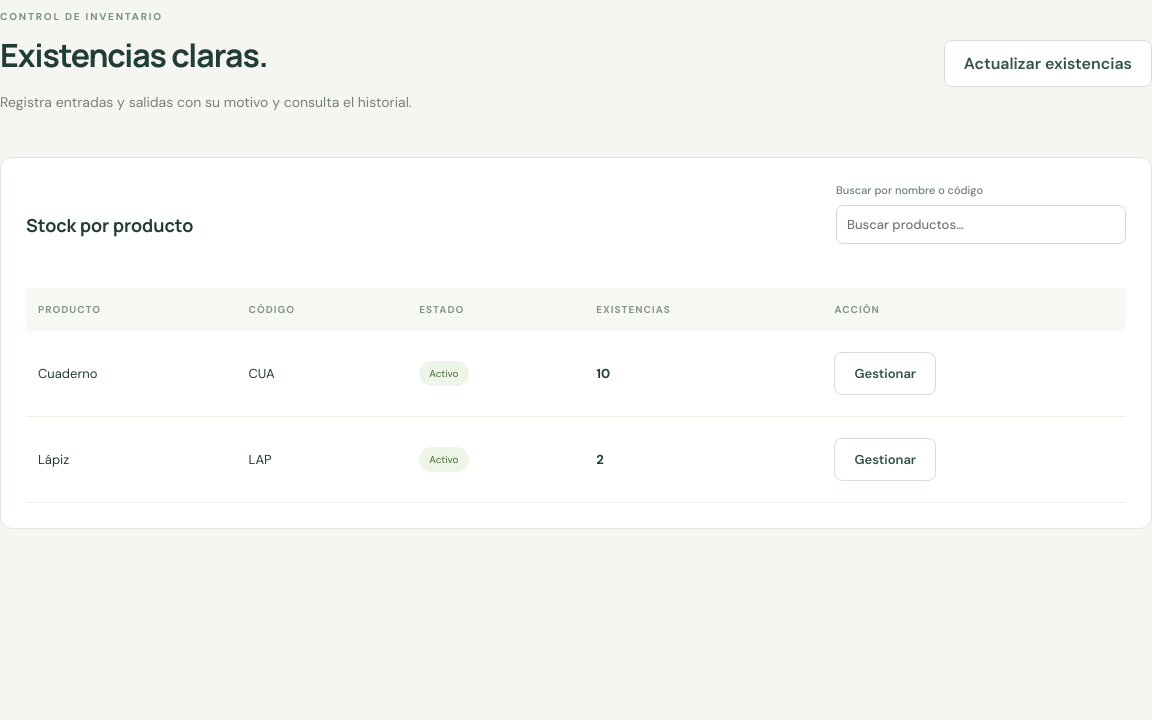
Scenario: Inventario › guarda una entrada con motivo y vuelve a consultar stock e historial
The image size is (1152, 720).
Click the button "Gestionar" in the row of "Cuaderno" at (885, 374), box [834,352,936,395]
(page scrolled)
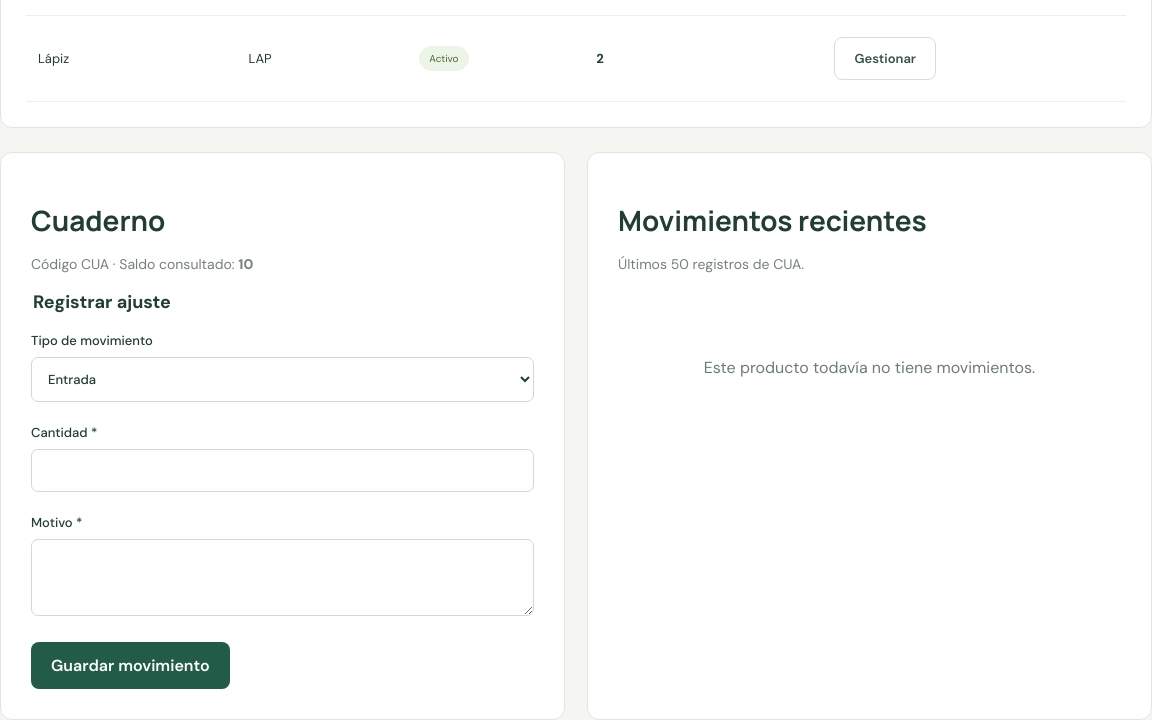
Type "5" into the number field labelled "Cantidad *" at (282, 470), box [31,449,534,492]
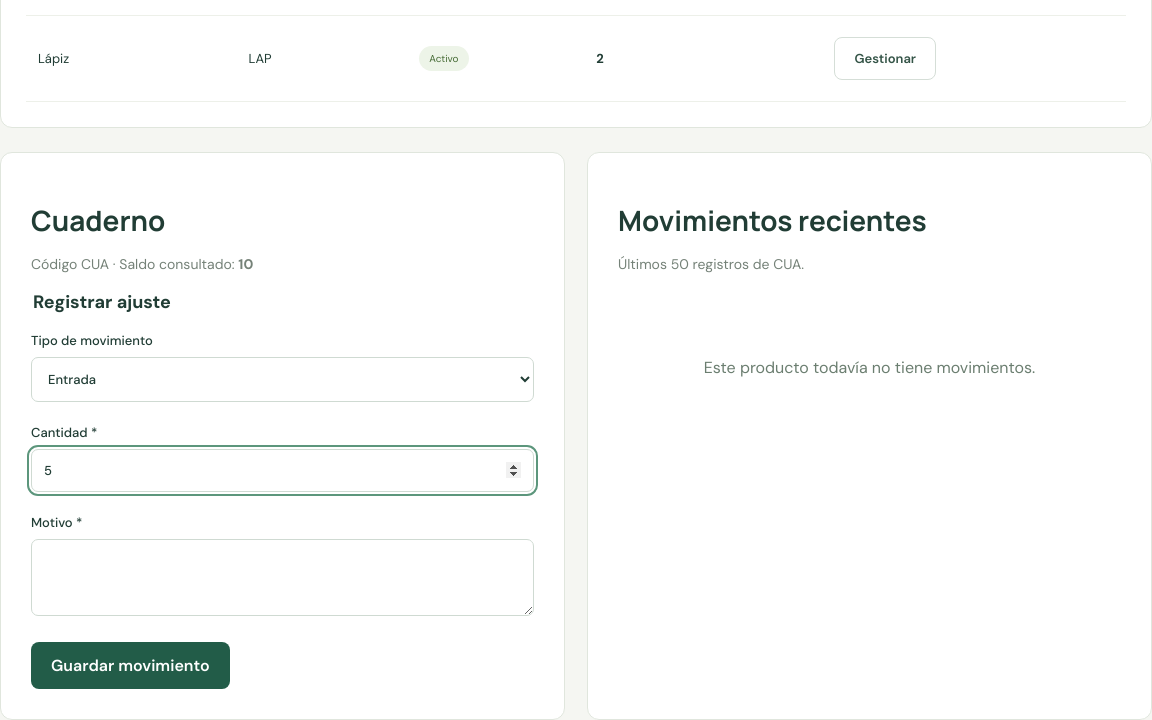
Type "Compra" into the text box labelled "Motivo *" at (282, 577), box [31,539,534,616]
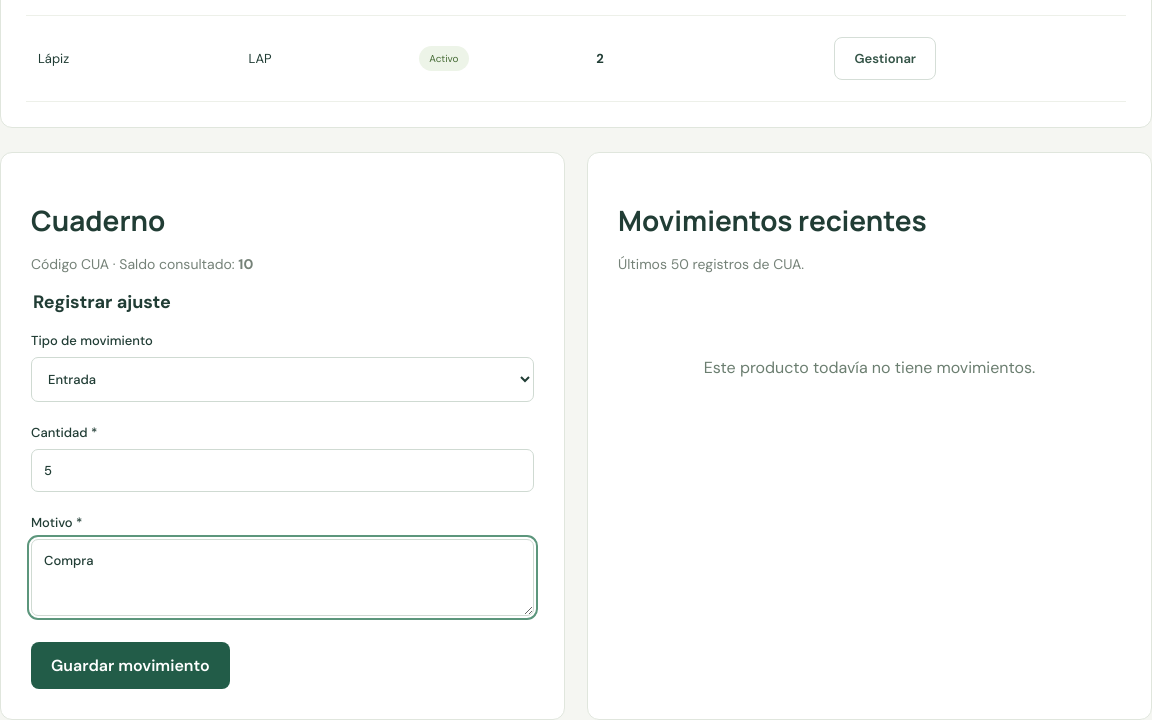
Click the button "Guardar movimiento" at (130, 665), box [31,642,230,689]
(page scrolled)
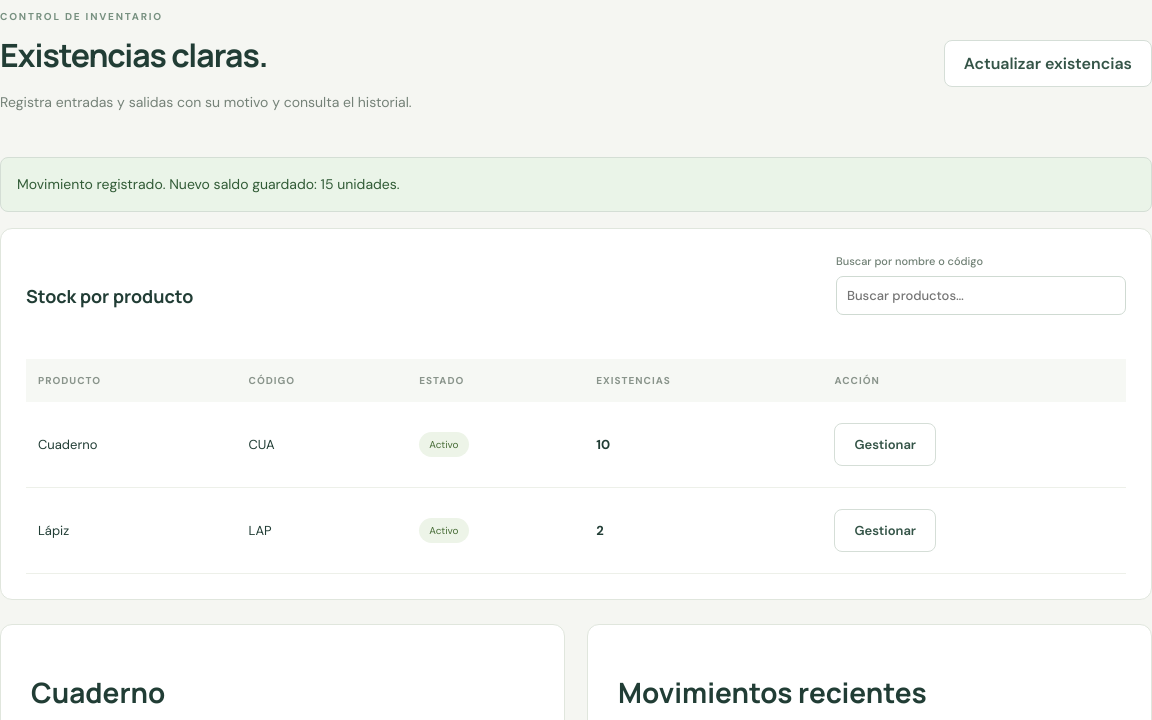
Now the text "Movimiento registrado. Nuevo saldo guardado: 15 unidades." is shown, box [0,157,1151,212]
